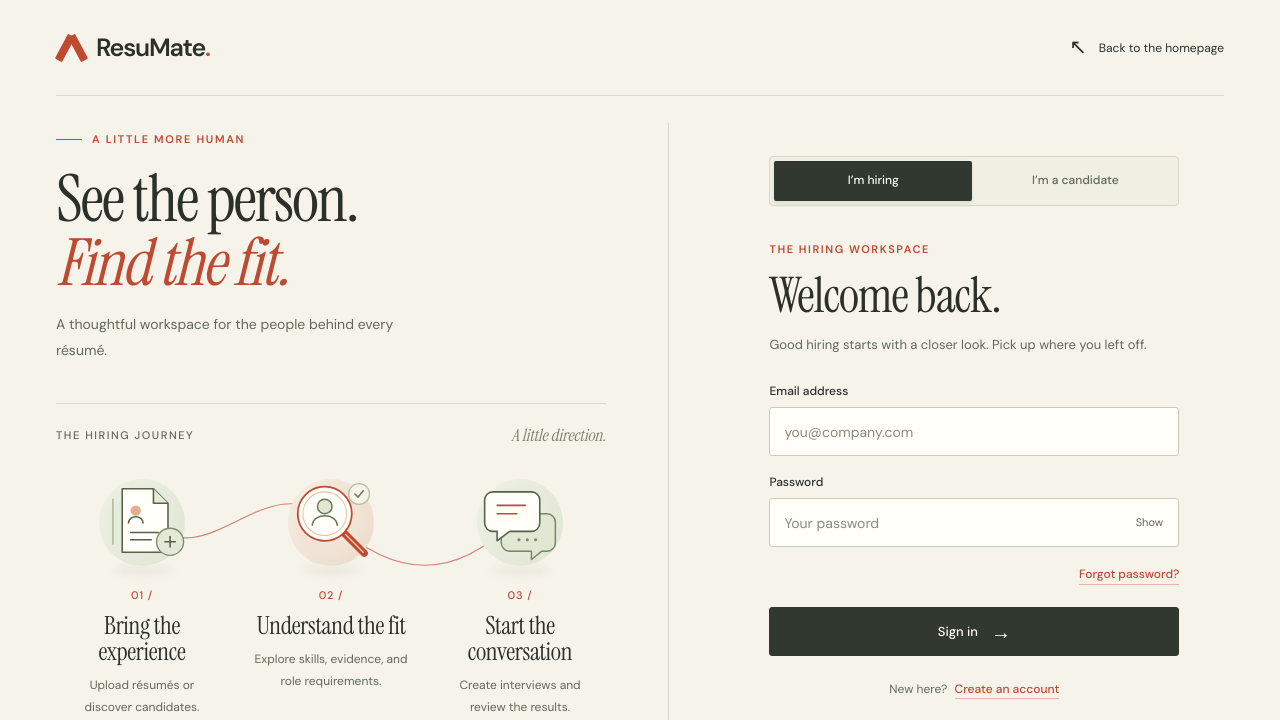
Test: when it fails › says you are rate limited rather than blaming the password
Type "jane@co.com" into the field labelled "Email address" at (974, 432), box [769,407,1179,456]
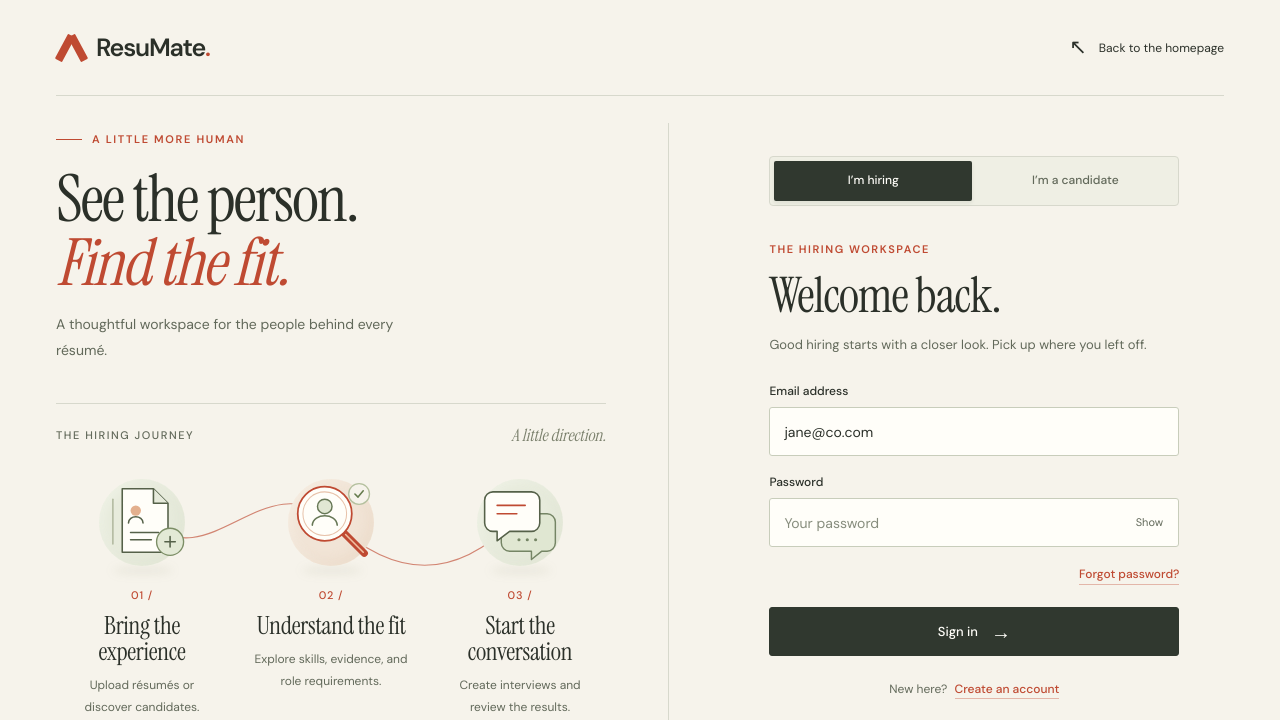
Type "hunter2hunter2" into the password field labelled "Password" at (974, 522), box [769,498,1179,547]
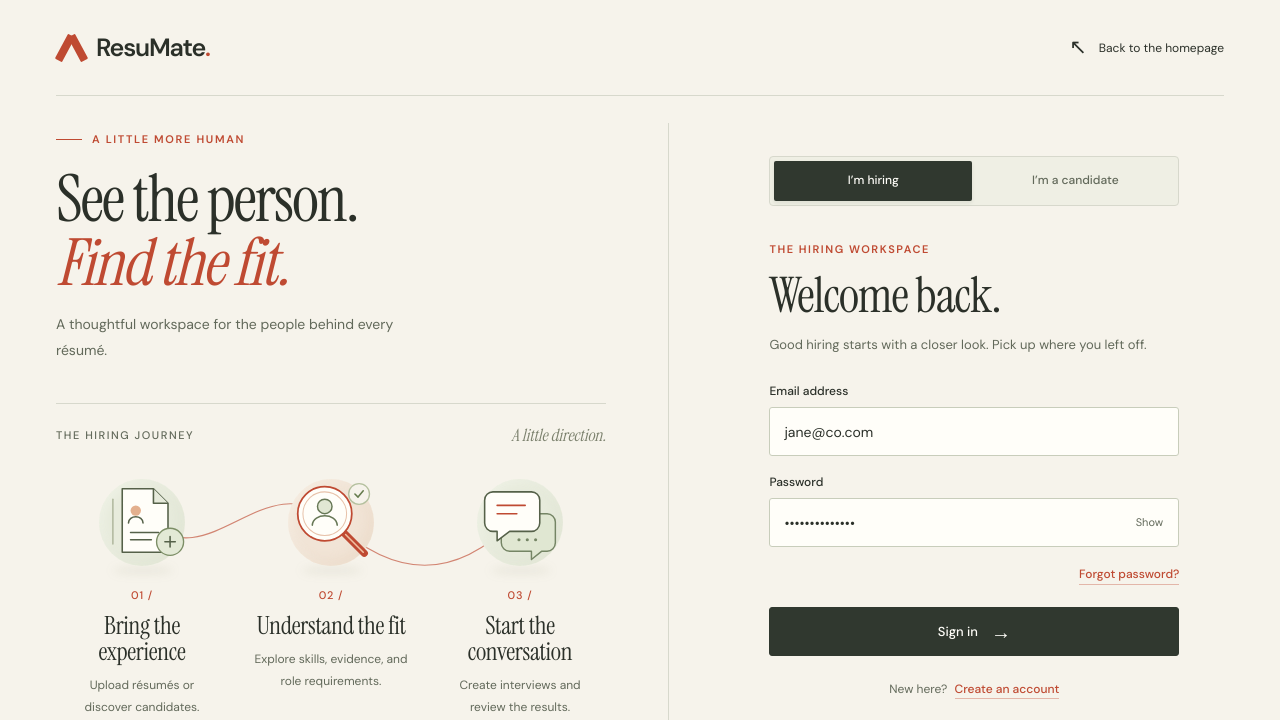
Click the button "Sign in →" at (974, 632), box [769,607,1179,656]
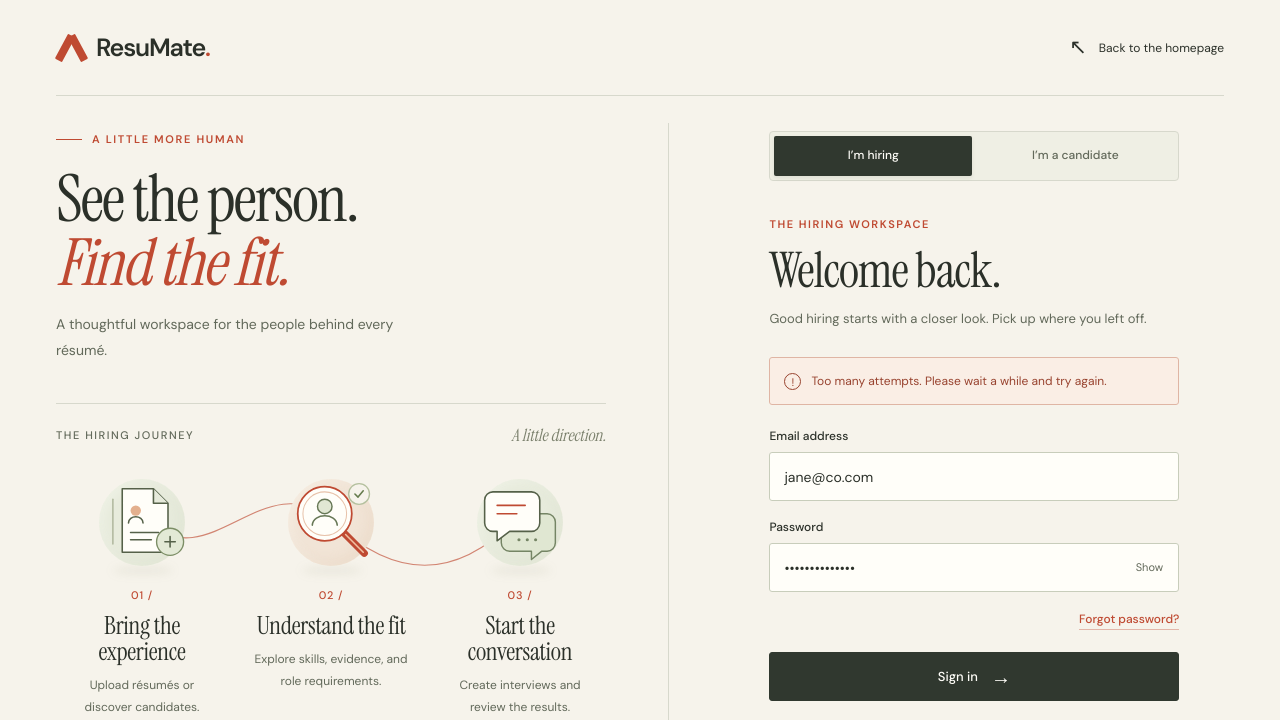
Result: the message shows "Too many attempts" at [811,373,1107,389]
